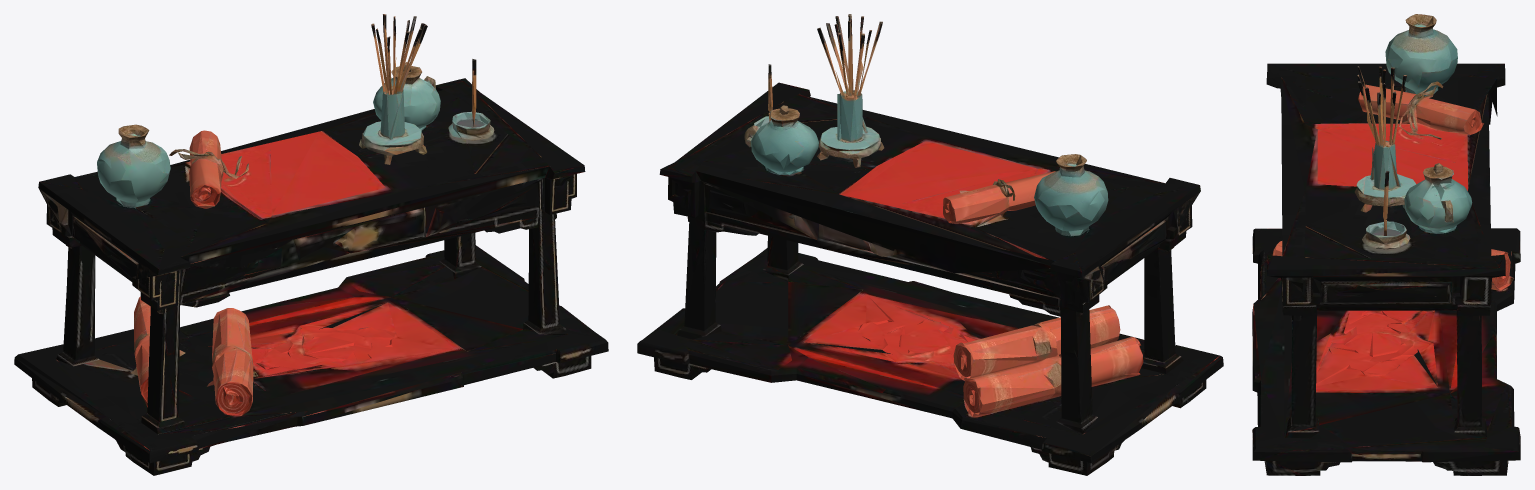
The model's file is scholar_desk.glb.
3 renders of one model, left to right at view 1: azimuth 30°, elevation 25°; view 2: azimuth 150°, elevation 25°; view 3: azimuth 270°, elevation 25°, orthographic.
Size of the model in its own units: 1.9 by 1.34 by 0.9573.
1 material, 1 textured.
